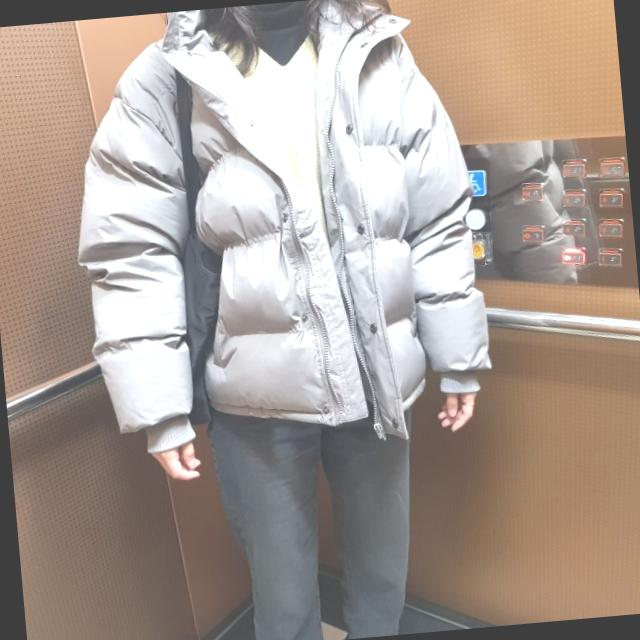denimpants: (204, 389, 424, 640)
padding: (56, 0, 494, 456)
